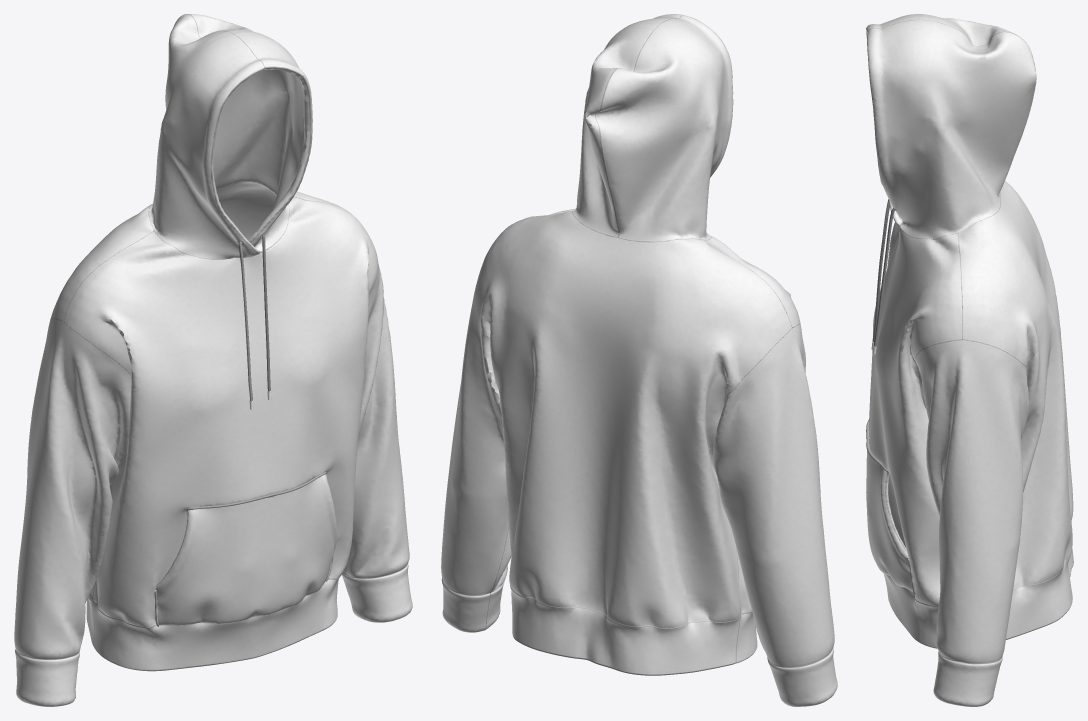
The model's file is hoodie.glb.
3 views of the same model, side by side, from view 1: azimuth 30°, elevation 25°; view 2: azimuth 150°, elevation 25°; view 3: azimuth 270°, elevation 25° (orthographic). The views are drawn at different scales.
Visible parts, largest first — view 1: Object_2; view 2: Object_2; view 3: Object_2.
Boxes of the visible parts, bbox=[...] form: Object_2: bbox=[14, 14, 412, 706]; Object_2: bbox=[441, 14, 837, 706]; Object_2: bbox=[866, 14, 1073, 706].
Bounding box in the file's own units: 0.6057 × 0.943 × 0.2942.
Materials: 1 (1 with a texture image).
